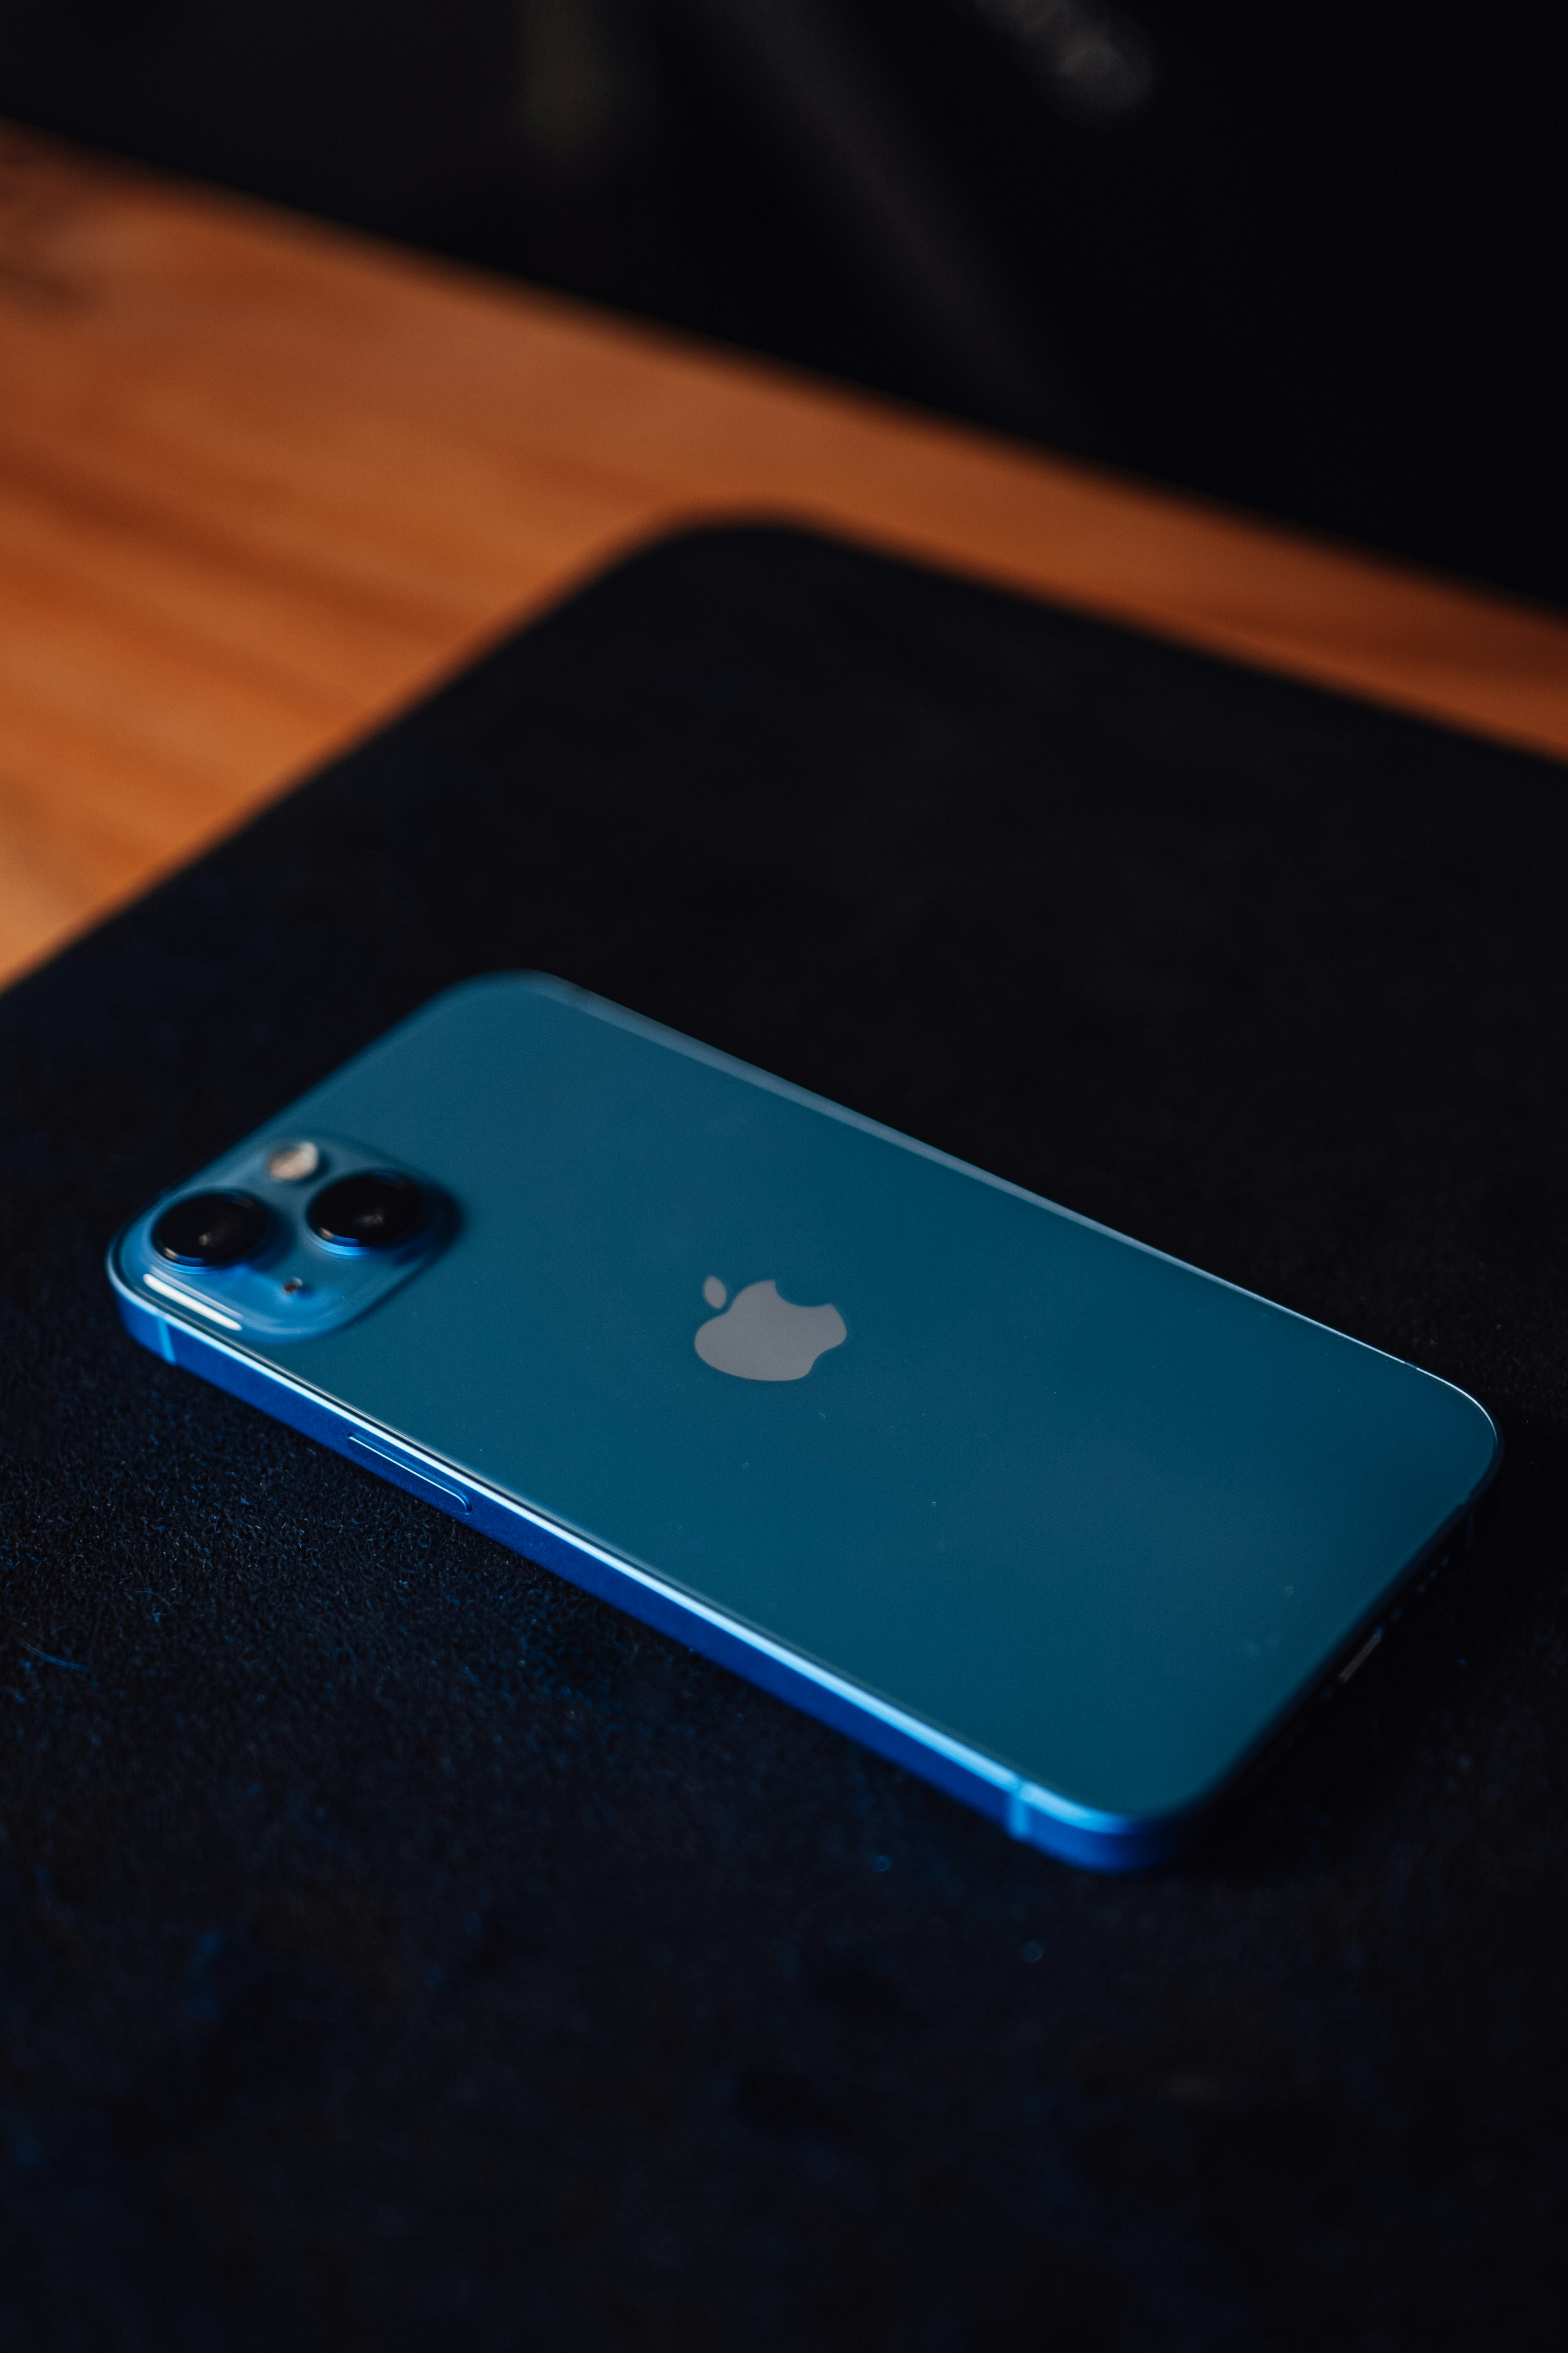p6: (51, 942, 1536, 1926)
